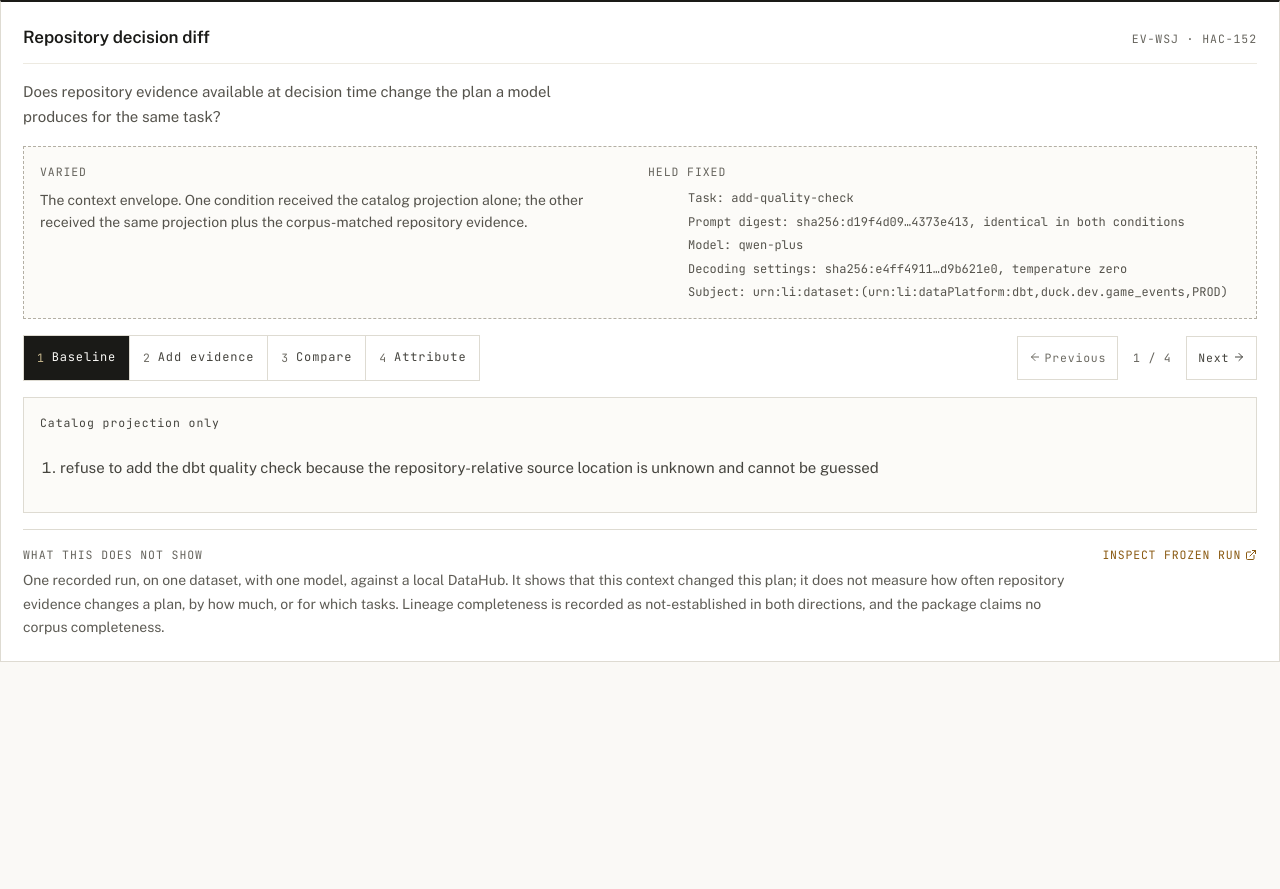
Test: RepositoryDecisionDiff › discloses evidence, then the diff, then attribution, in that order
The image size is (1280, 889).
Expected: the list item "refuse to add the dbt quality check" is shown, [60,459,879,476]
Expected: the text "Exact producing source" is not shown
What coordinates should you click on to do the following:
click the button "2 Add evidence"
I would click on:
 (198, 358)
Its box is [129,336,267,380].
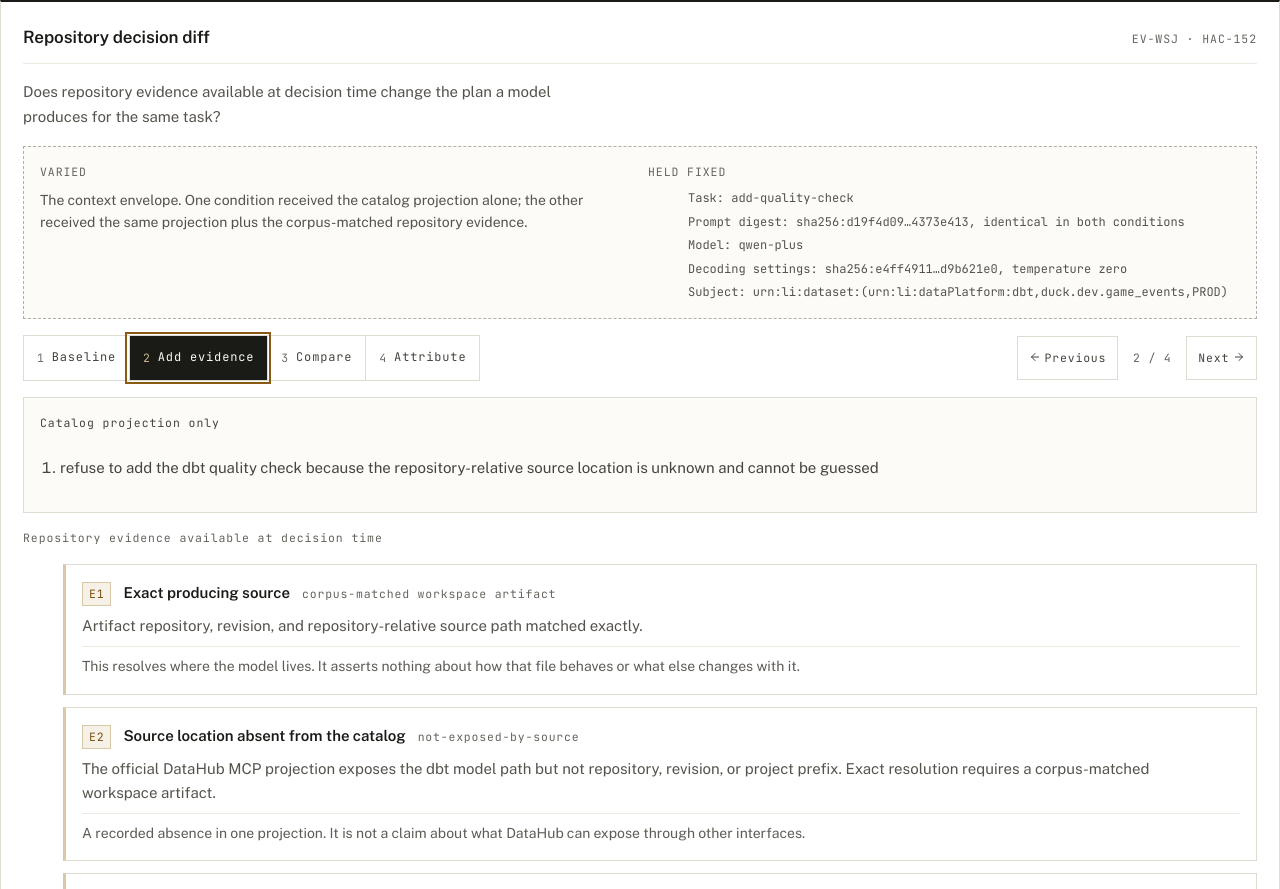
Expected: the text "ADDED" is not shown
Now the text "Exact producing source" is shown, box [123,581,290,605]
What coordinates should you click on to do the following:
click the button "3 Compare"
I would click on:
 (316, 358)
Its box is [267,336,365,380].
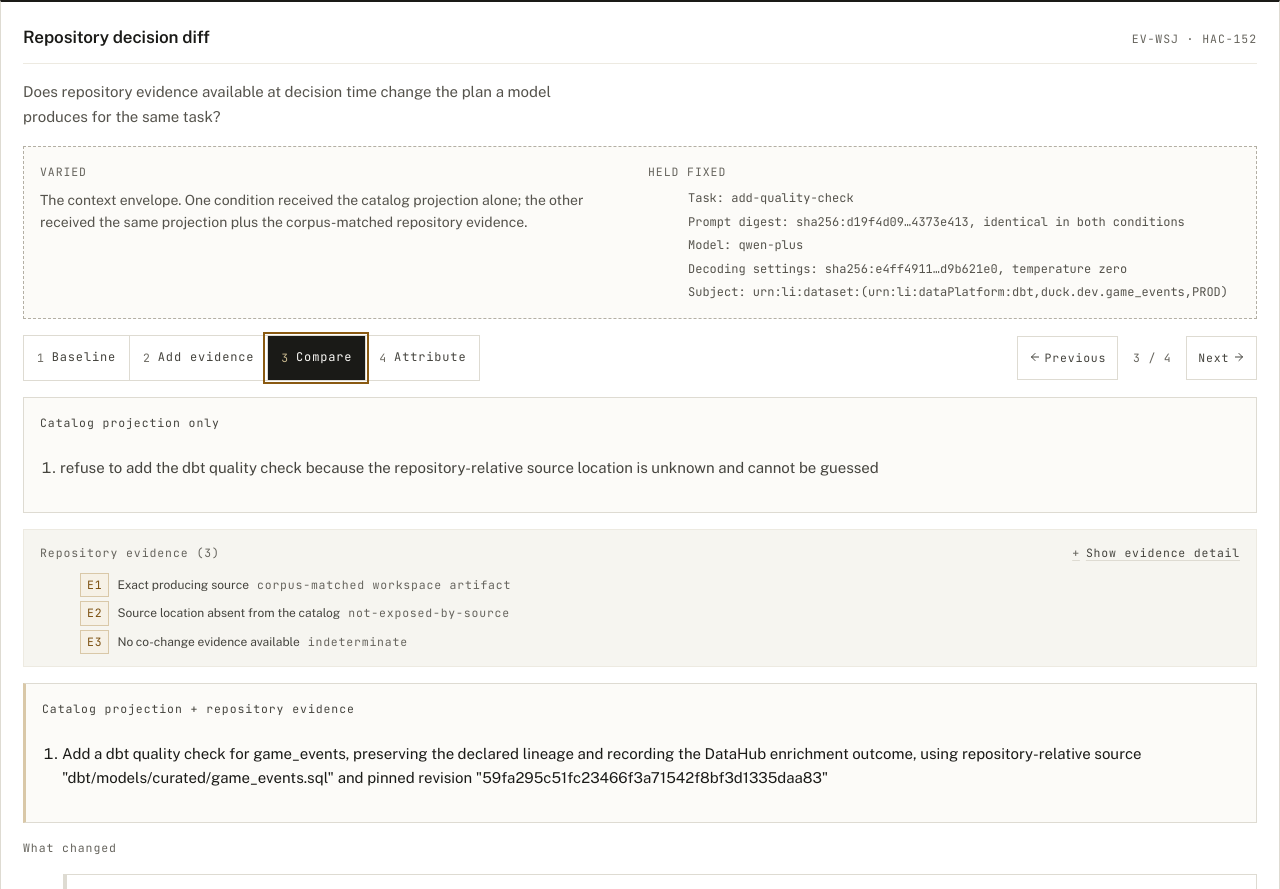
Expected: the text "BECAUSE OF" is not shown
What coordinates should you click on to do the following:
click the button "4 Attribute"
I would click on:
 (422, 358)
Its box is [365,336,479,380].
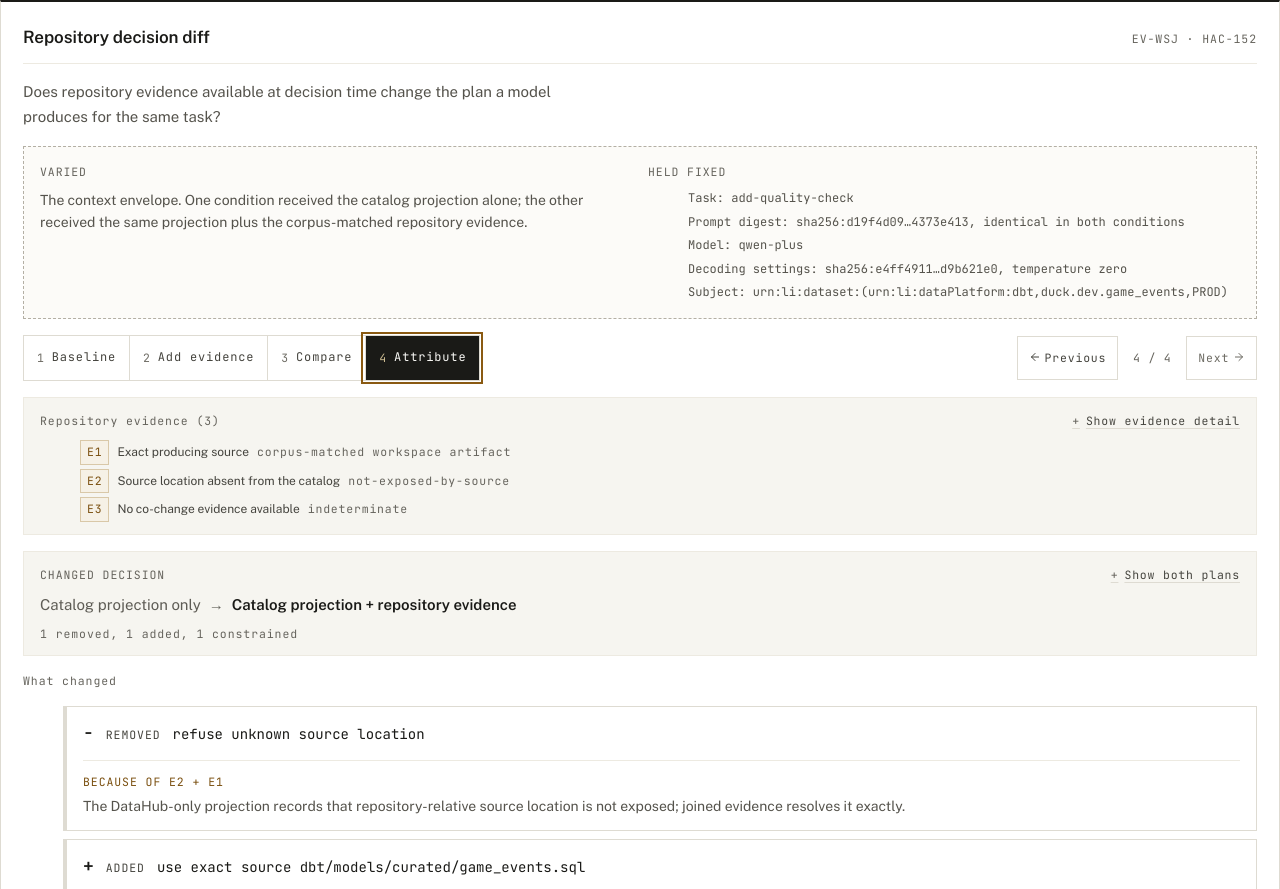
Now the text "BECAUSE OF E2 + E1" is shown 3 times
